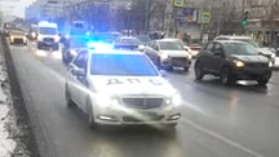ambulance: (35, 21, 60, 51)
non emergency car: (194, 40, 273, 88), (145, 38, 193, 73), (8, 30, 29, 46)
police car: (65, 45, 184, 136)
